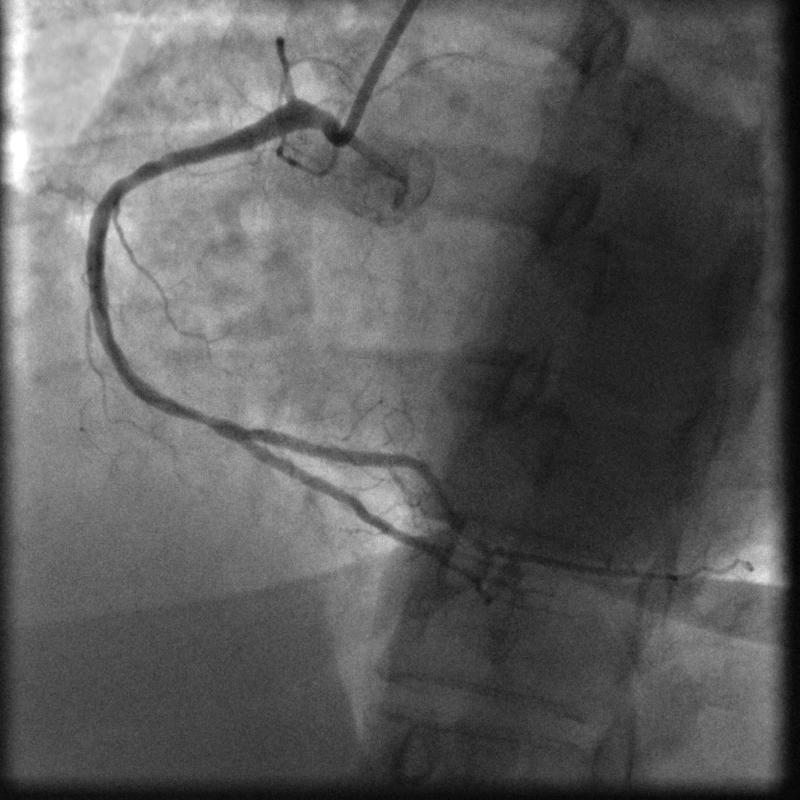Stenosis: (187, 398, 243, 437)
